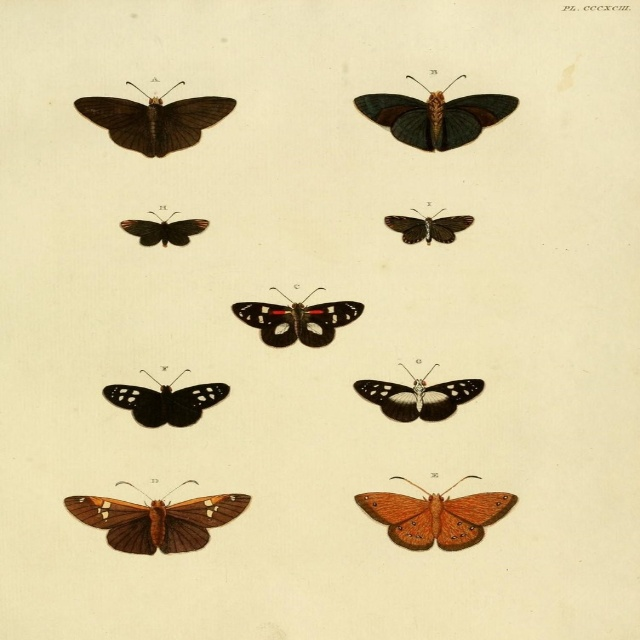Butterfly: (64, 481, 257, 555), (351, 75, 521, 155), (79, 74, 230, 164), (355, 476, 521, 552), (343, 362, 489, 425), (228, 282, 367, 348), (97, 364, 233, 427), (382, 205, 477, 253), (115, 208, 212, 253)
